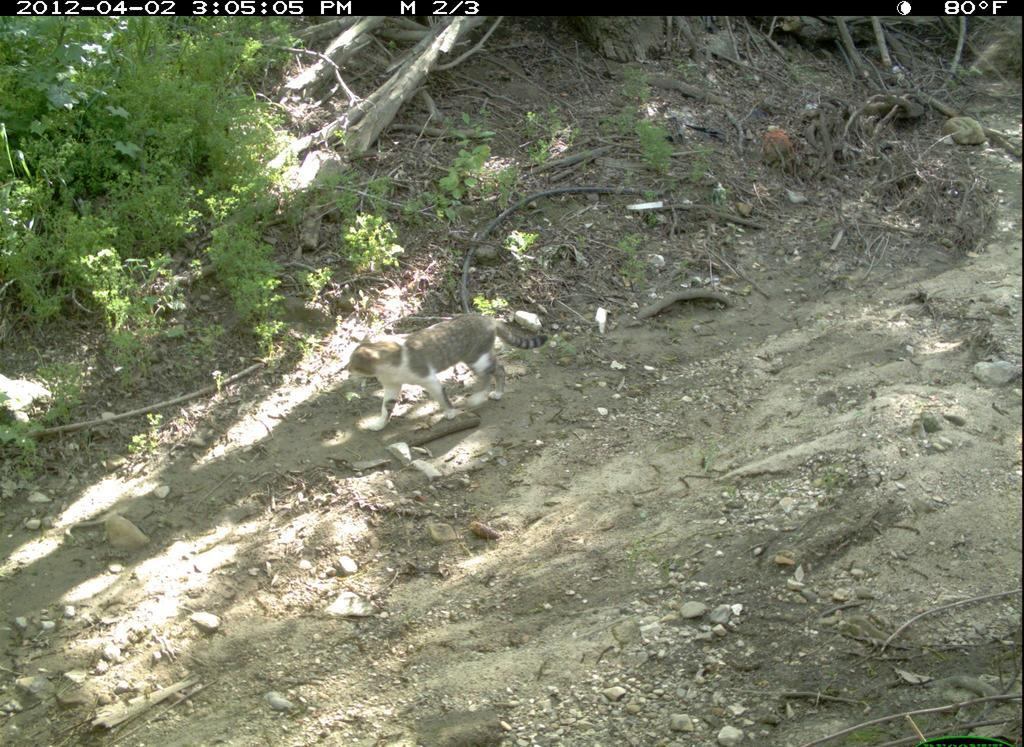cat: (322, 304, 564, 456)
